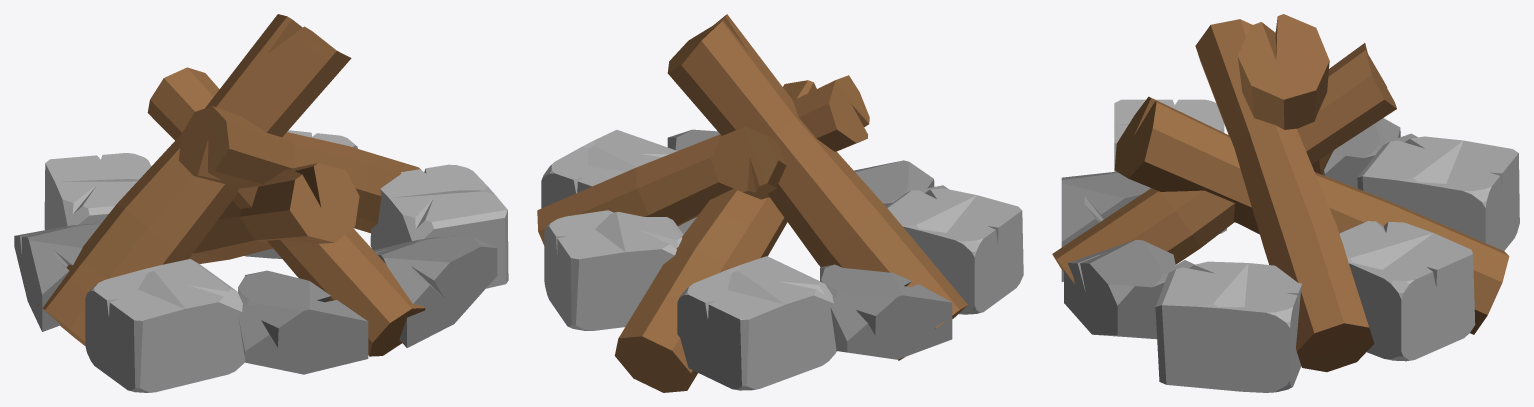
Rendered from FeuCamp.fbx.
3 views of the same model, side by side, from view 1: azimuth 30°, elevation 25°; view 2: azimuth 150°, elevation 25°; view 3: azimuth 270°, elevation 25° (orthographic). The views are drawn at different scales.
Visible parts, largest first — view 1: FeuCamp; view 2: FeuCamp; view 3: FeuCamp.
Part boxes in pixels (x1=…): FeuCamp: x1=14, y1=14, x2=508, y2=392; FeuCamp: x1=537, y1=14, x2=1023, y2=392; FeuCamp: x1=1052, y1=14, x2=1519, y2=392.
Size of the model in its own units: 270 by 188 by 241.
